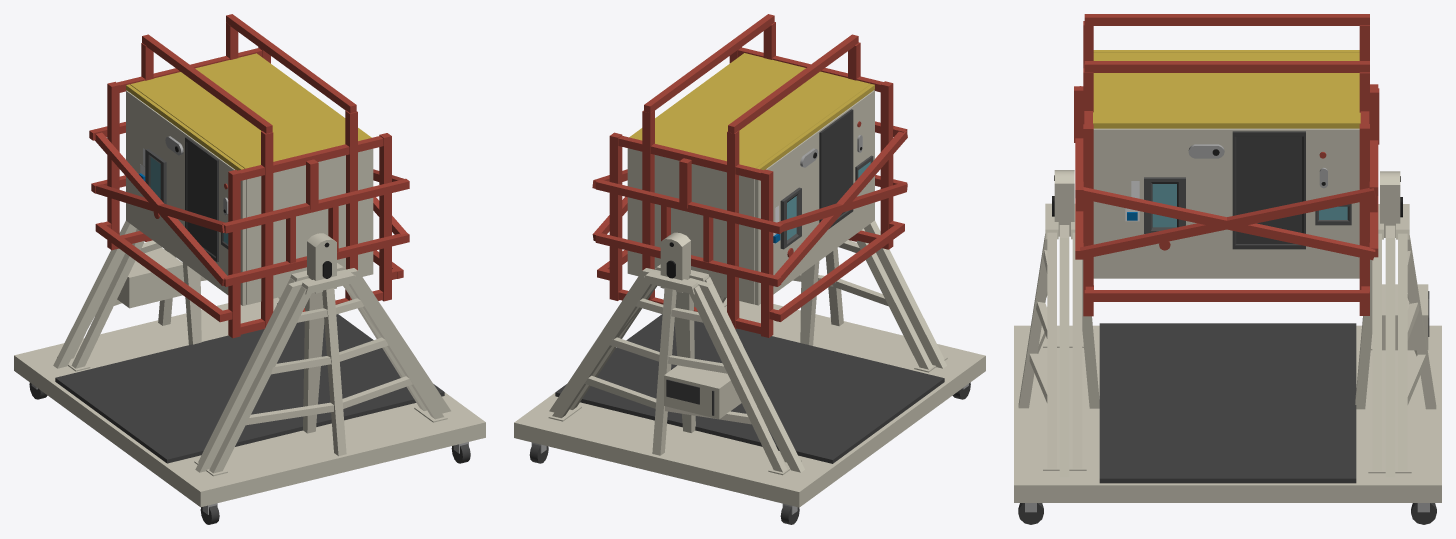
File: z_hong_03.fbx
The picture shows the model from 3 angles, left to right: view 1: azimuth 30°, elevation 25°; view 2: azimuth 150°, elevation 25°; view 3: azimuth 270°, elevation 25°; orthographic projection. The views are drawn at different scales.
Parts seen in each view (by area): view 1: hong_03; view 2: hong_03; view 3: hong_03.
Boxes of the visible parts, x1=… form: hong_03: x1=14, y1=14, x2=485, y2=524; hong_03: x1=514, y1=14, x2=985, y2=524; hong_03: x1=1014, y1=14, x2=1441, y2=524.
Bounding box in the file's own units: 304 × 367 × 345.
